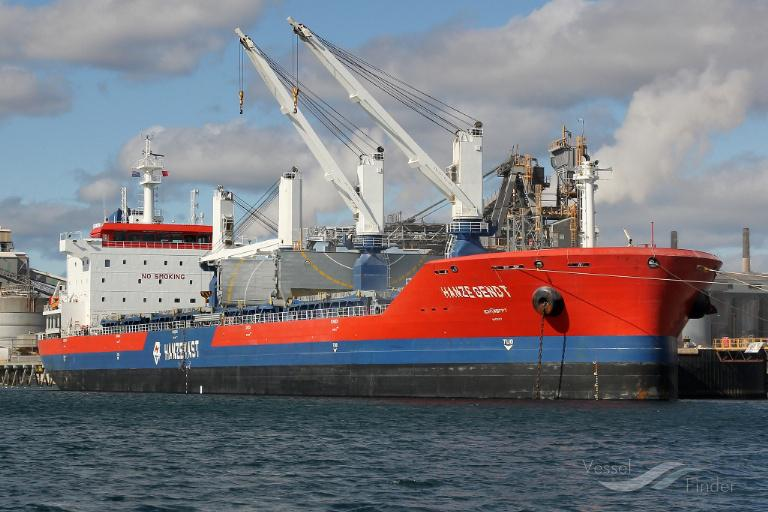OCR: (432, 278, 516, 308), (158, 336, 204, 366)
